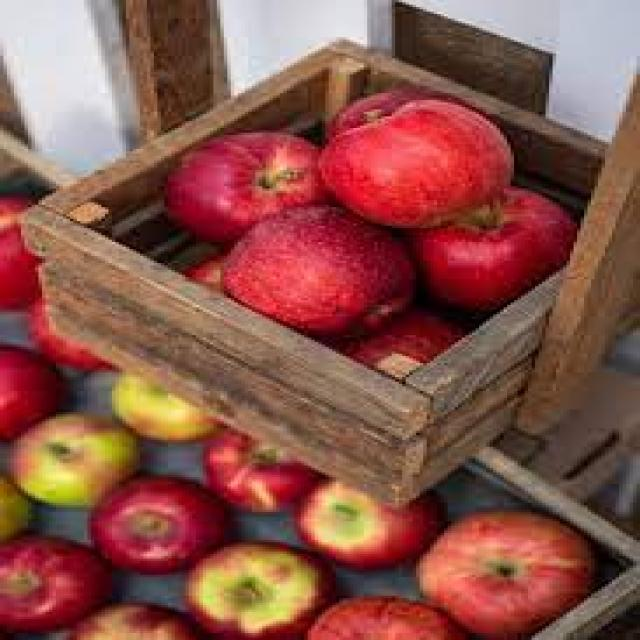-: (420, 512, 598, 637)
apple: (224, 207, 416, 336), (322, 100, 514, 227), (168, 133, 329, 242), (91, 479, 224, 574)
